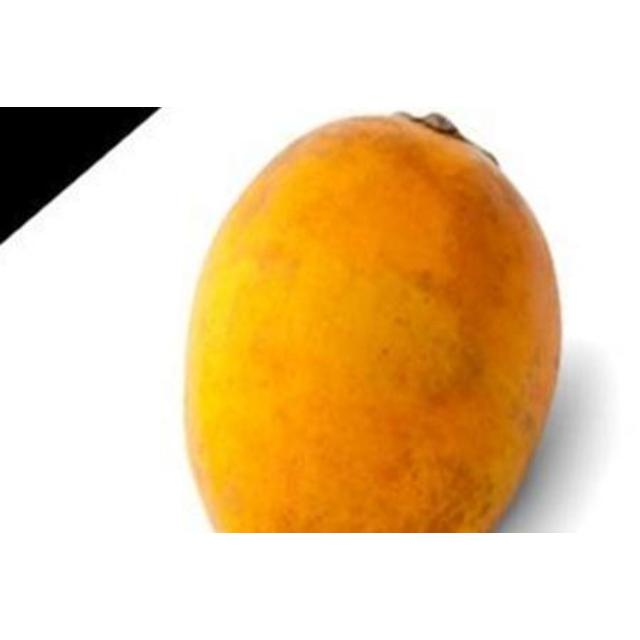good: (181, 114, 565, 532)
